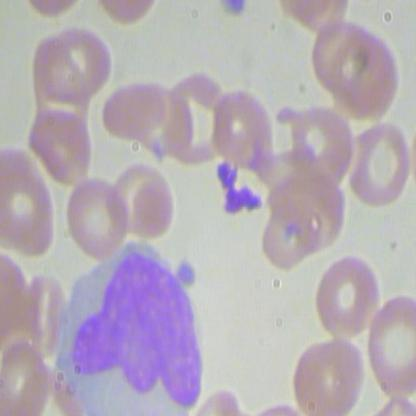Platelets: (220, 185, 243, 219), (175, 255, 201, 284), (212, 161, 239, 188), (241, 184, 264, 214)
RBC: (205, 85, 281, 169), (291, 330, 366, 414), (315, 257, 380, 342), (347, 120, 411, 205), (64, 176, 128, 255), (112, 159, 176, 238), (369, 292, 415, 401)
WBC: (51, 238, 210, 415)
